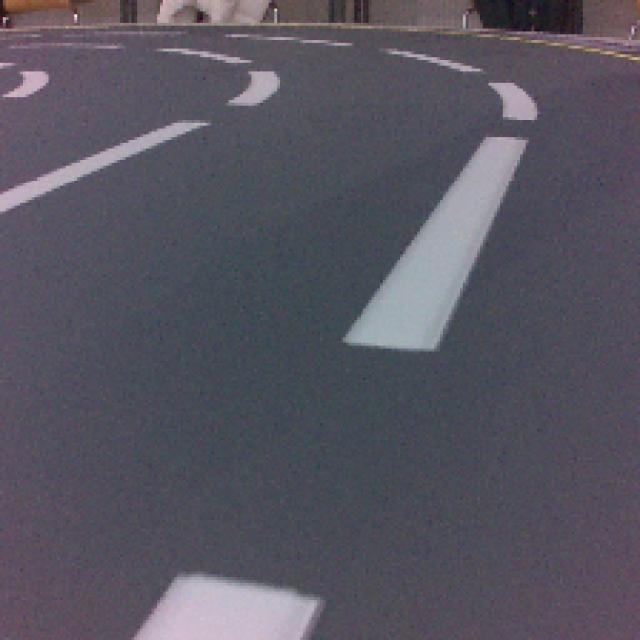Guard rail: (136, 134, 530, 640)
